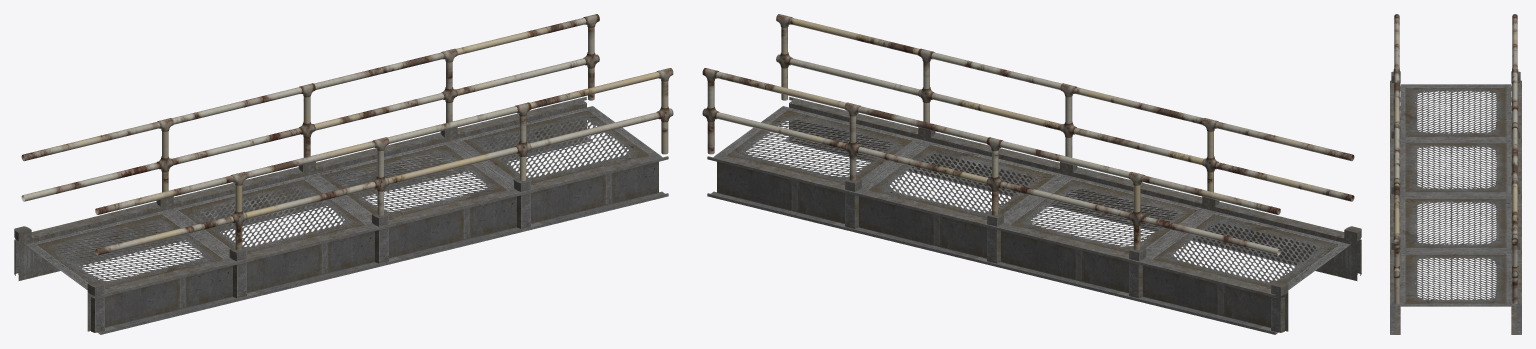
The model's file is upper_platform8x2.fbx.
3 views of the same model, side by side, from view 1: azimuth 30°, elevation 25°; view 2: azimuth 150°, elevation 25°; view 3: azimuth 270°, elevation 25° (orthographic). The views are drawn at different scales.
Parts seen in each view (by area): view 1: upper_platform8x2; view 2: upper_platform8x2; view 3: upper_platform8x2.
Part boxes in pixels (x1=…): upper_platform8x2: x1=14, y1=14, x2=673, y2=334; upper_platform8x2: x1=702, y1=14, x2=1361, y2=334; upper_platform8x2: x1=1390, y1=14, x2=1521, y2=334.
Size of the model in its own units: 819 by 166 by 200.
